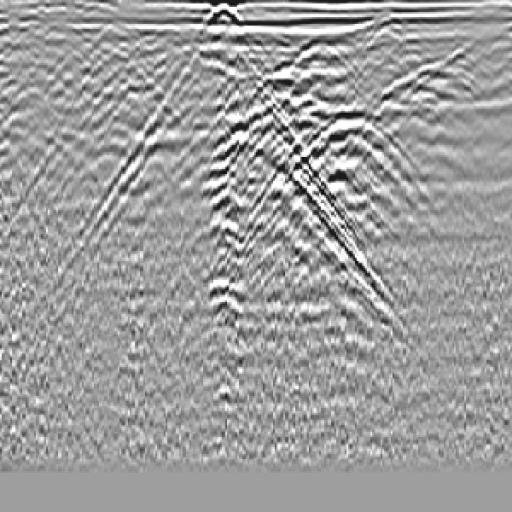non-metallic: (79, 2, 385, 285), (277, 53, 438, 292), (223, 30, 370, 260)
